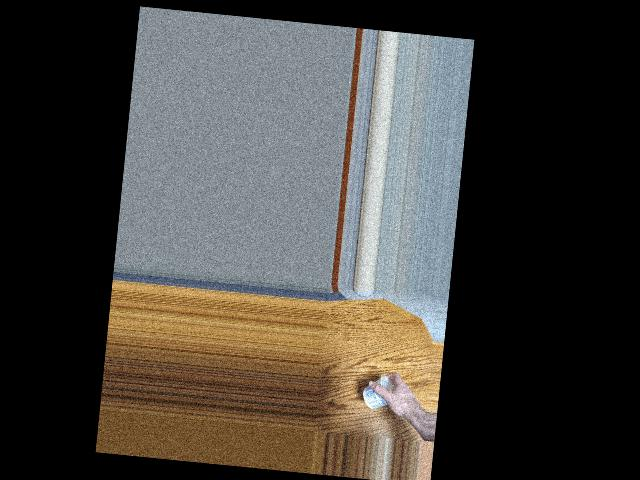cotage: (360, 372, 394, 414)
